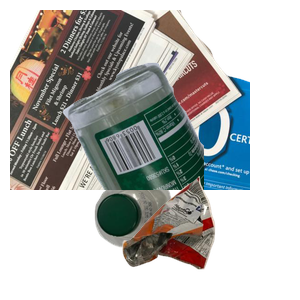glass: (60, 60, 300, 240)
paper: (10, 10, 250, 190)
plastic: (92, 176, 257, 300)
trash: (120, 174, 300, 300)
